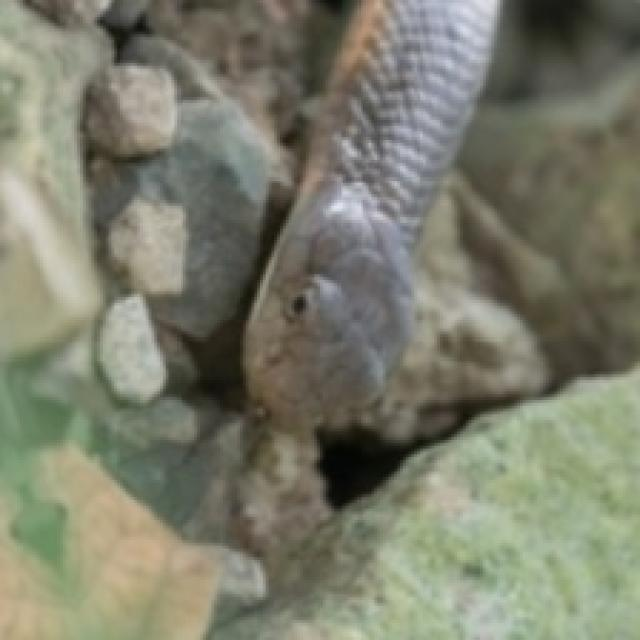king cobra: (237, 0, 497, 549)
